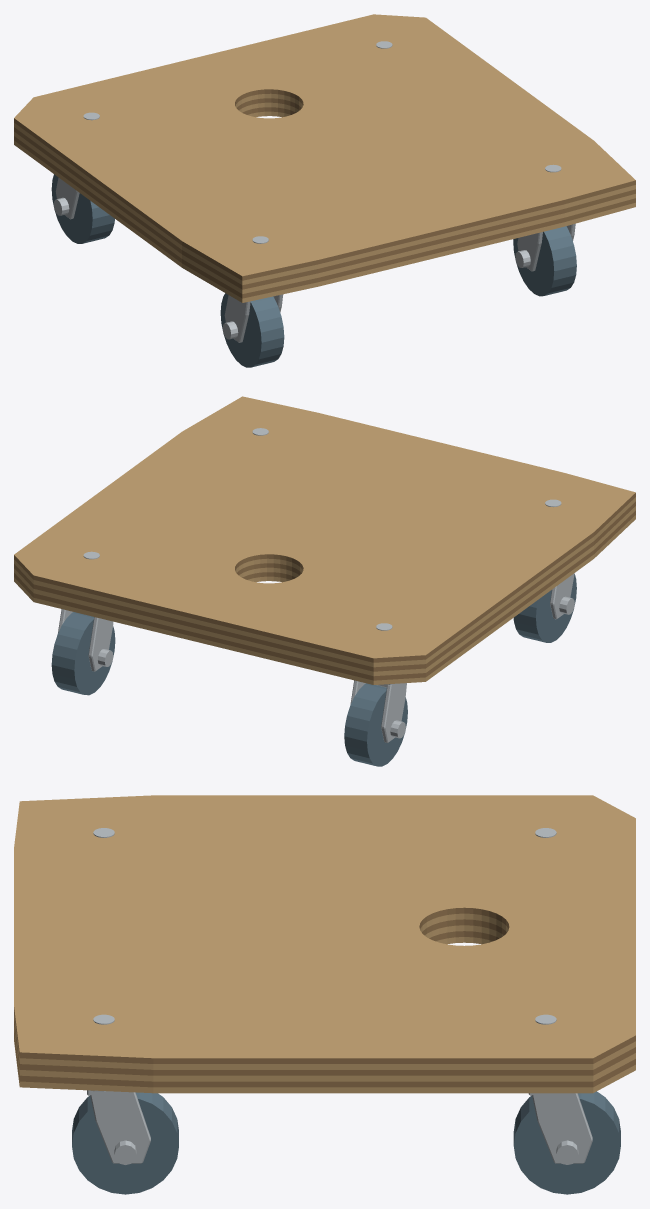
The model's file is full.glb.
3 renders of one model, top to bottom at view 1: azimuth 30°, elevation 25°; view 2: azimuth 150°, elevation 25°; view 3: azimuth 270°, elevation 25°, orthographic. The views are drawn at different scales.
Visible parts, largest first — view 1: Plywood platform with through handle, Single caster wheel 0, Single caster wheel 1, Single caster wheel 2, Fork cheek (0, -1), Fork cheek (1, -1), Fork cheek (2, -1); view 2: Plywood platform with through handle, Single caster wheel 2, Single caster wheel 3, Single caster wheel 0, Fork cheek (2, -1), Fork cheek (3, -1), Fork cheek (0, -1); view 3: Plywood platform with through handle, Single caster wheel 3, Single caster wheel 1, Fork cheek (1, 1), Fork cheek (3, 1).
Part boxes in pixels (<box>): Plywood platform with through handle: <box>14,14,635,302</box>; Single caster wheel 0: <box>220,293,284,367</box>; Single caster wheel 1: <box>513,226,576,296</box>; Single caster wheel 2: <box>51,174,114,243</box>; Fork cheek (0, -1): <box>224,295,250,342</box>; Fork cheek (1, -1): <box>517,232,542,271</box>; Fork cheek (2, -1): <box>55,177,79,219</box>; Plywood platform with through handle: <box>14,396,635,684</box>; Single caster wheel 2: <box>344,683,407,766</box>; Single caster wheel 3: <box>51,612,115,695</box>; Single caster wheel 0: <box>513,574,576,642</box>; Fork cheek (2, -1): <box>381,683,406,742</box>; Fork cheek (3, -1): <box>88,617,113,671</box>; Fork cheek (0, -1): <box>550,573,574,619</box>; Plywood platform with through handle: <box>14,795,635,1093</box>; Single caster wheel 3: <box>513,1091,620,1194</box>; Single caster wheel 1: <box>72,1092,178,1194</box>; Fork cheek (1, 1): <box>90,1092,150,1163</box>; Fork cheek (3, 1): <box>532,1093,592,1163</box>.
Bounding box in the file's own units: 0.29 × 0.0865 × 0.29.
